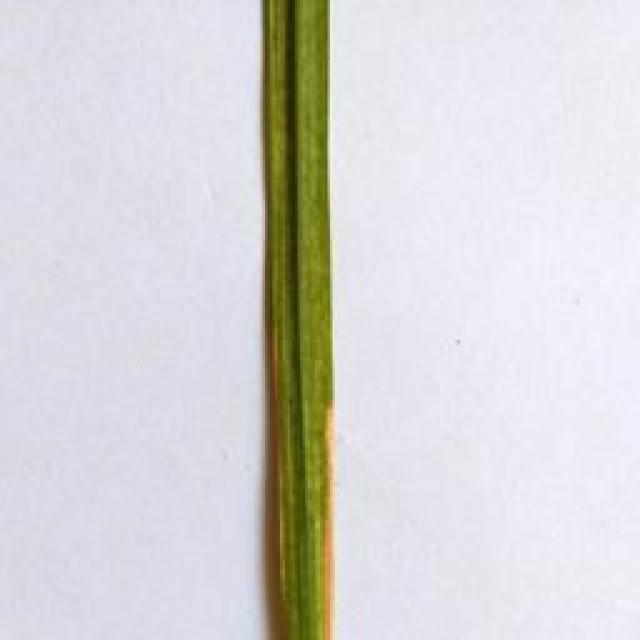Bacterial_Blight: (253, 0, 358, 640)
